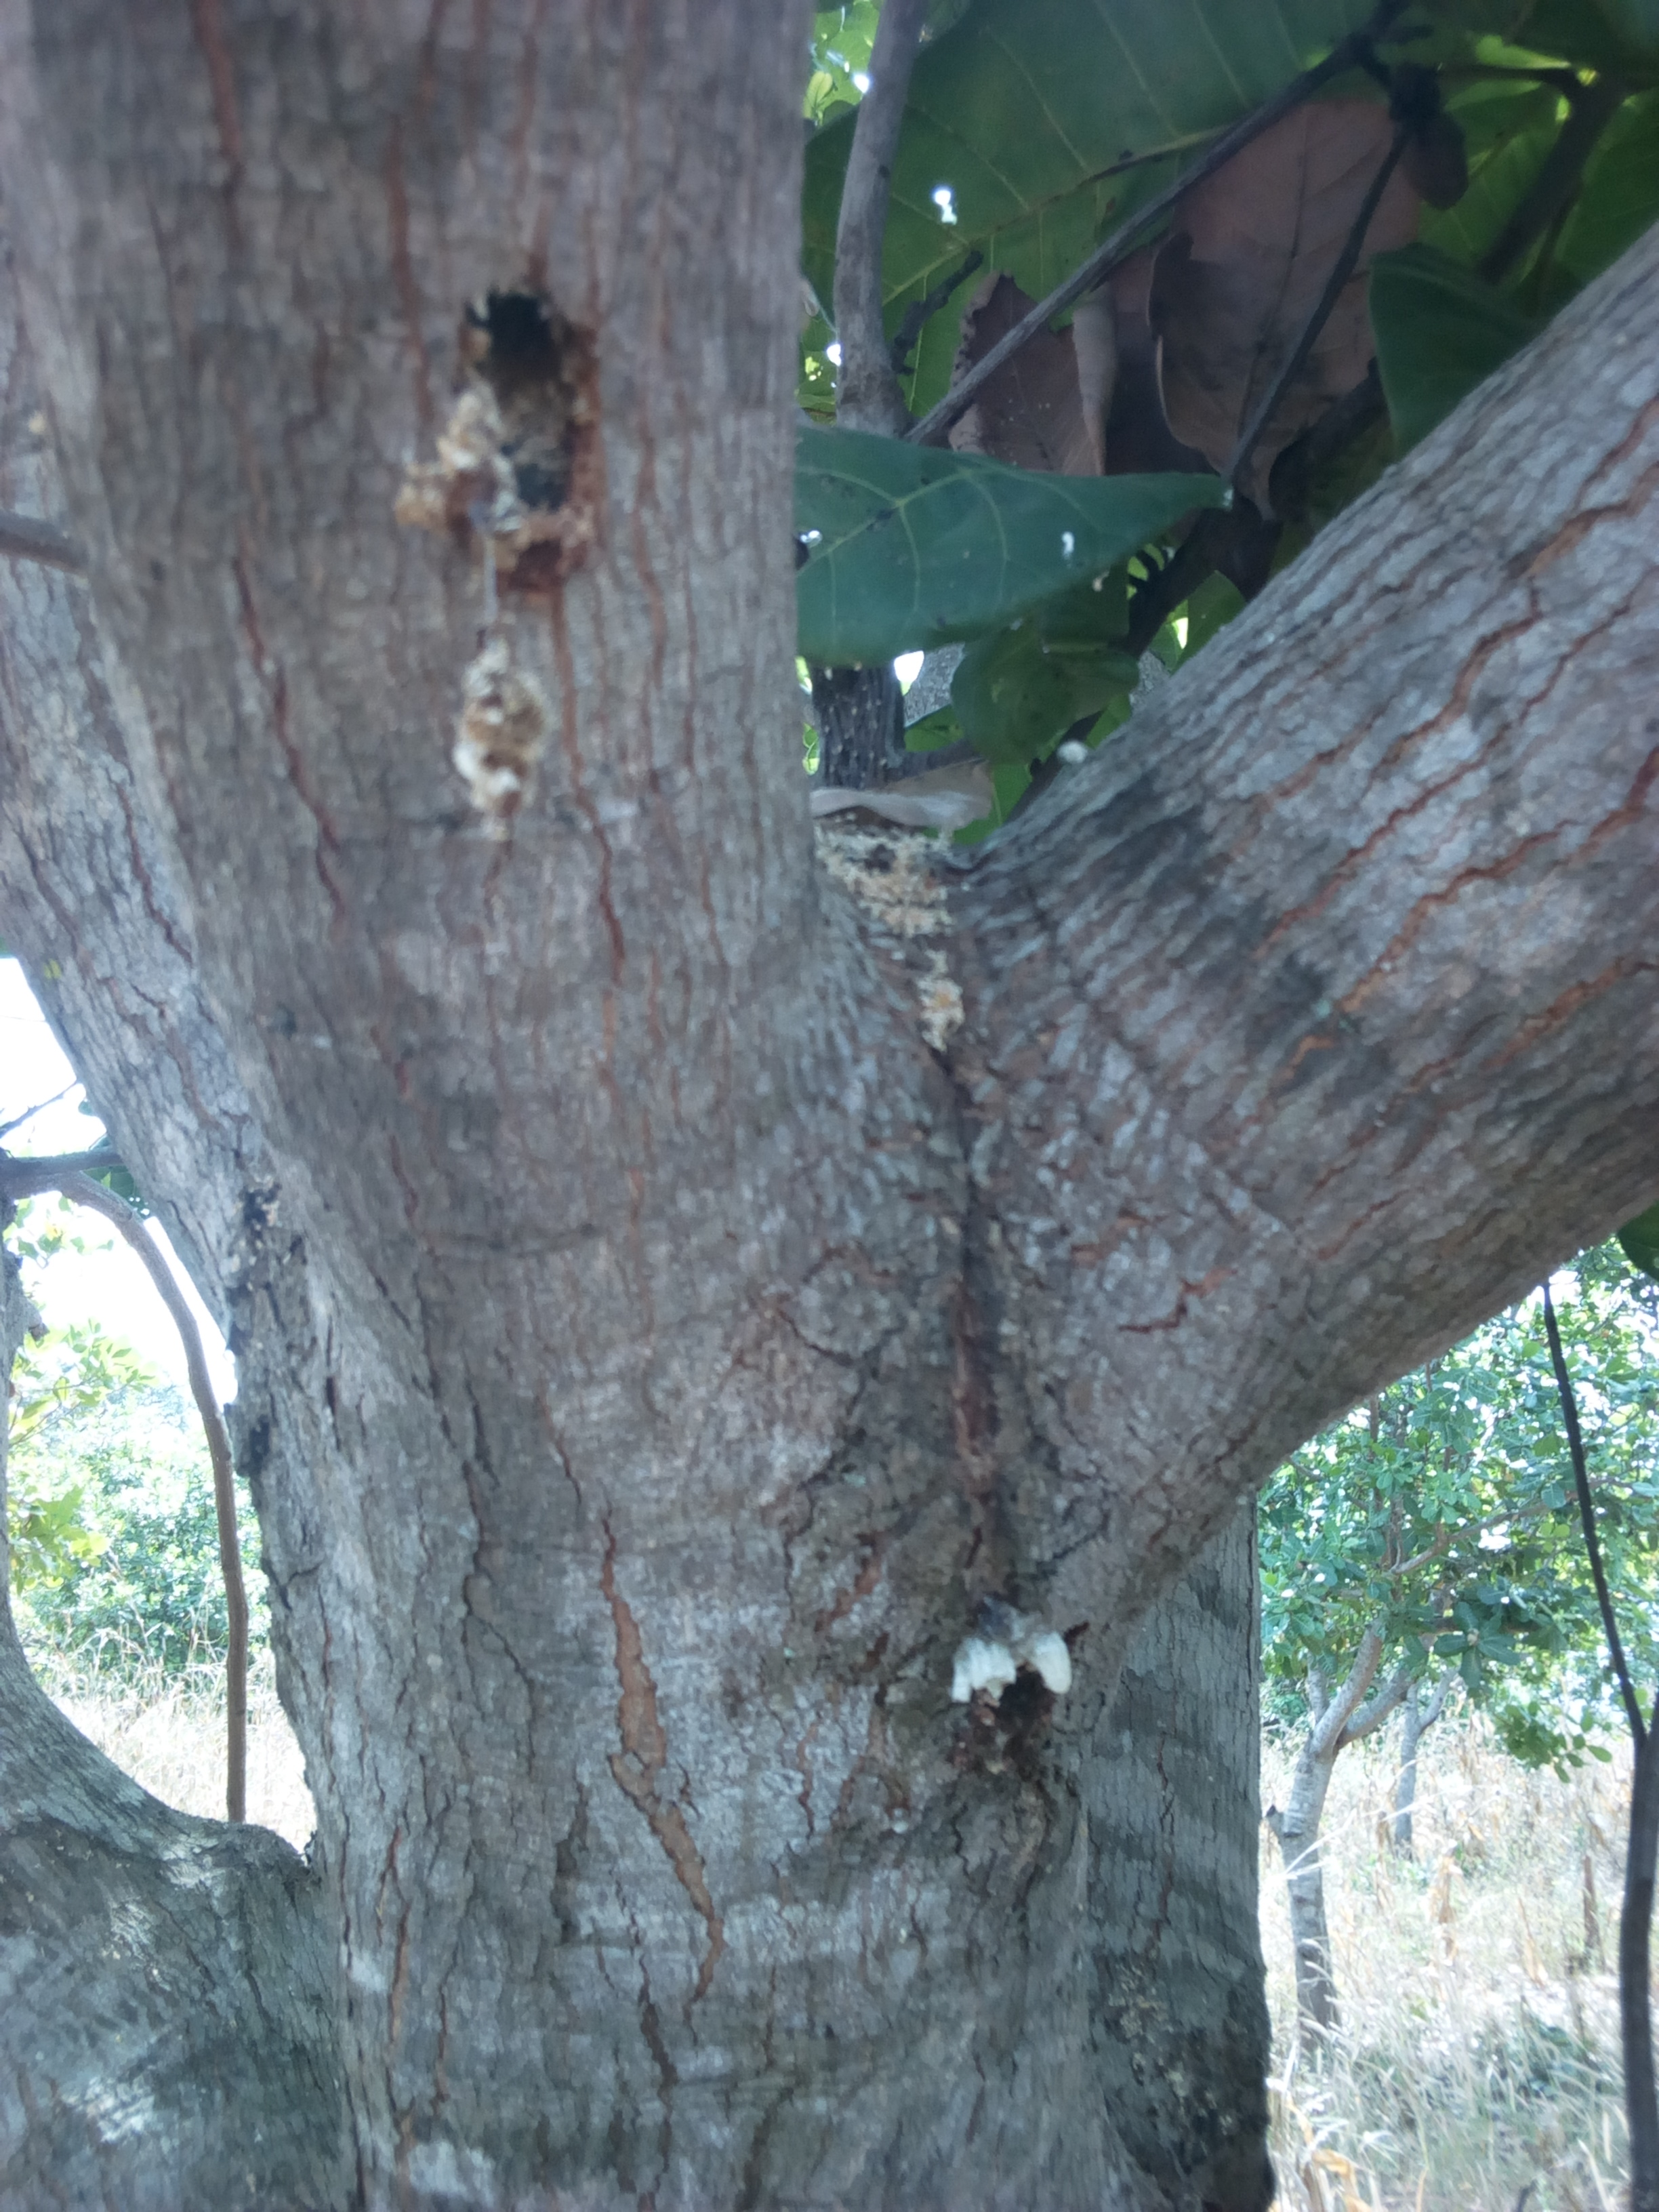Apate terebrans: (267, 239, 782, 604)
